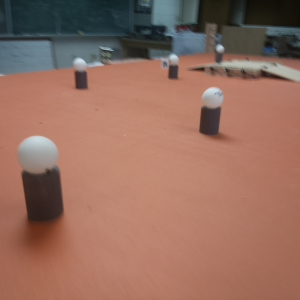blockB: (159, 57, 169, 68)
corner: (202, 21, 215, 53)
obstacle: (17, 132, 71, 219), (201, 86, 225, 138), (72, 57, 92, 91), (169, 54, 180, 81), (217, 45, 224, 59)
side: (202, 65, 257, 79)
slope: (262, 60, 299, 84)
